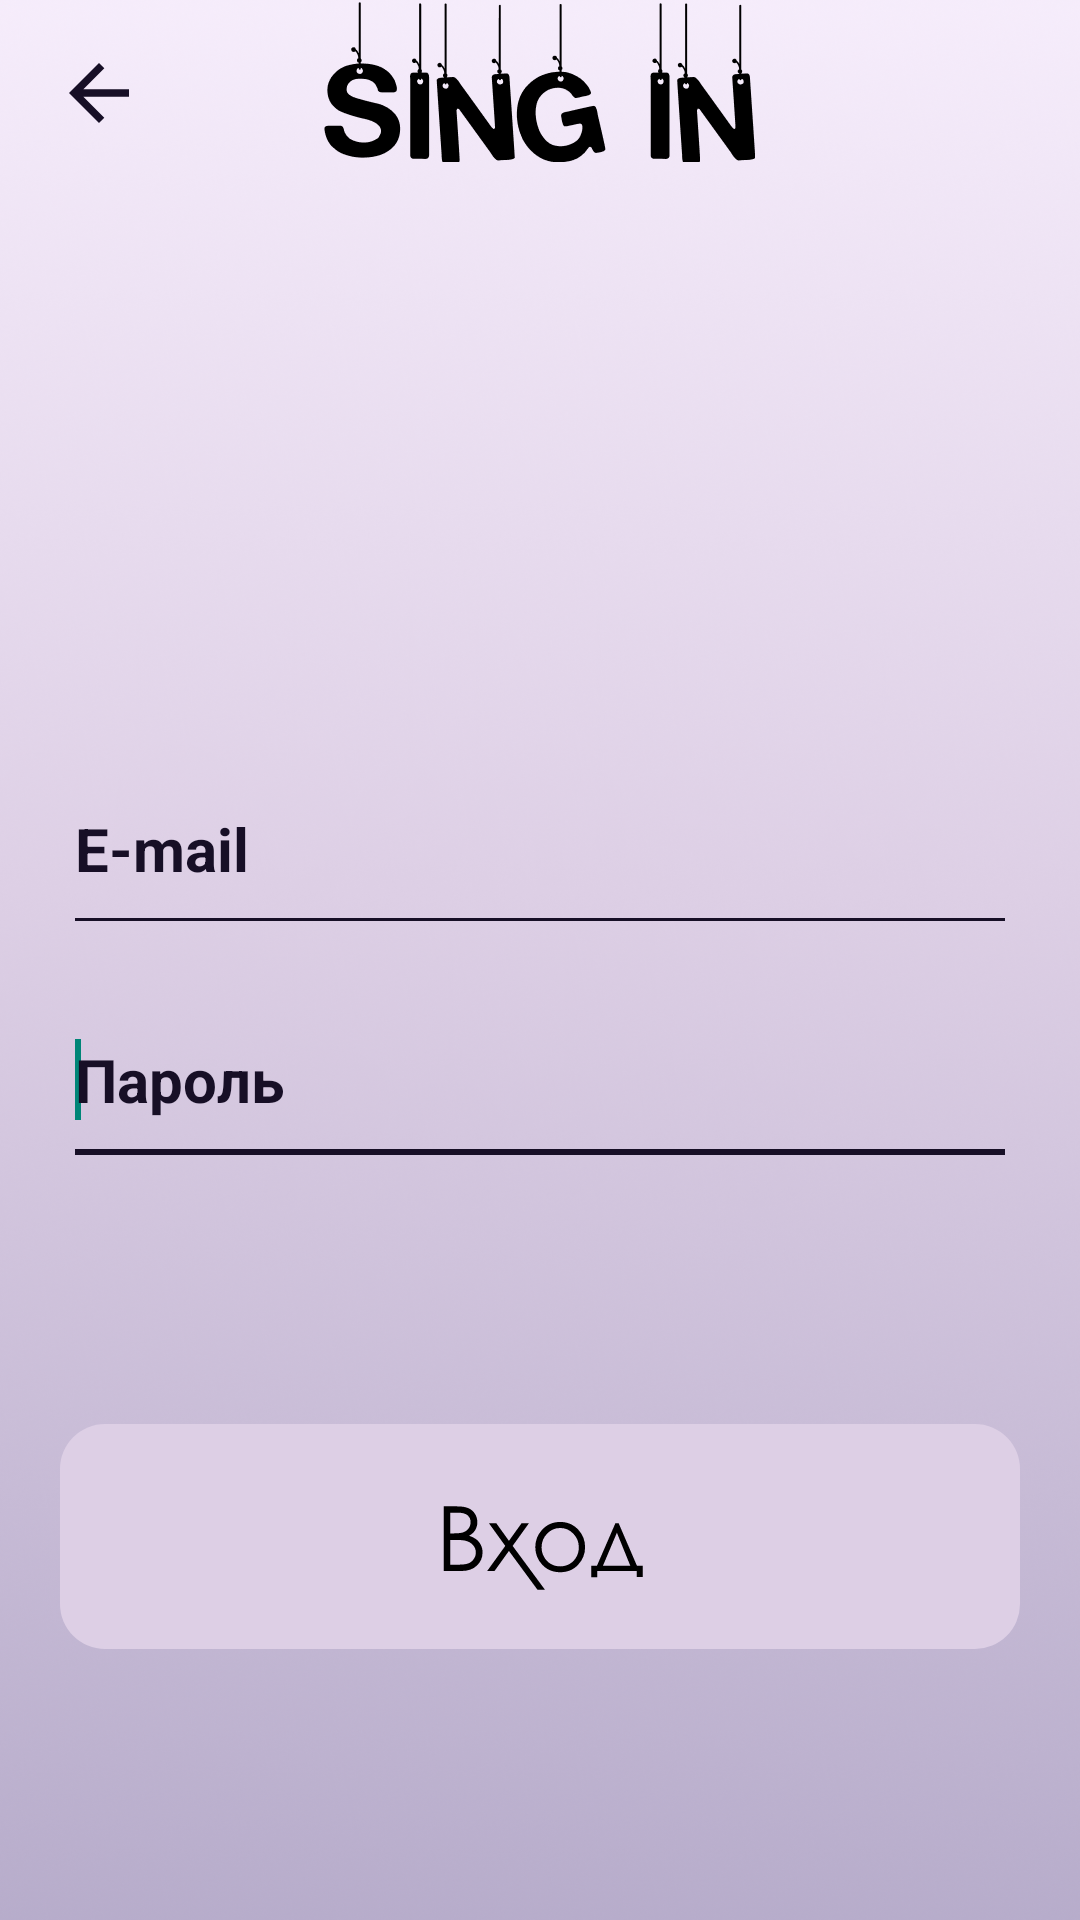

Icon bounding boxes for this 1080×1920 phone screenshot, format region(x1, y1, x2, y2):
back: region(69, 63, 129, 123)
